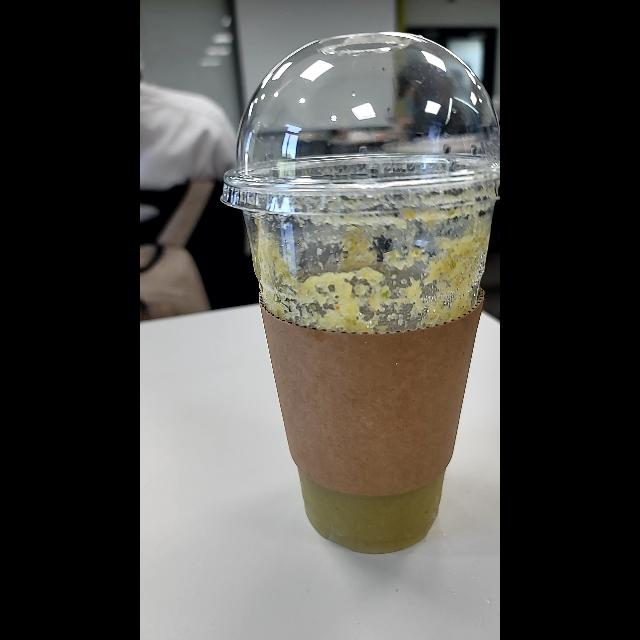plastic_cup: (220, 26, 500, 554)
plastic_cup_lid: (218, 29, 500, 221)
